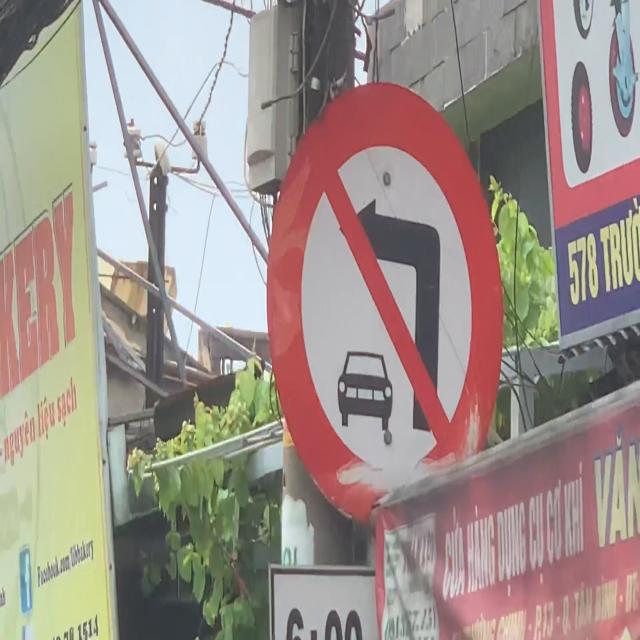Cam re trai: (264, 79, 506, 535)
